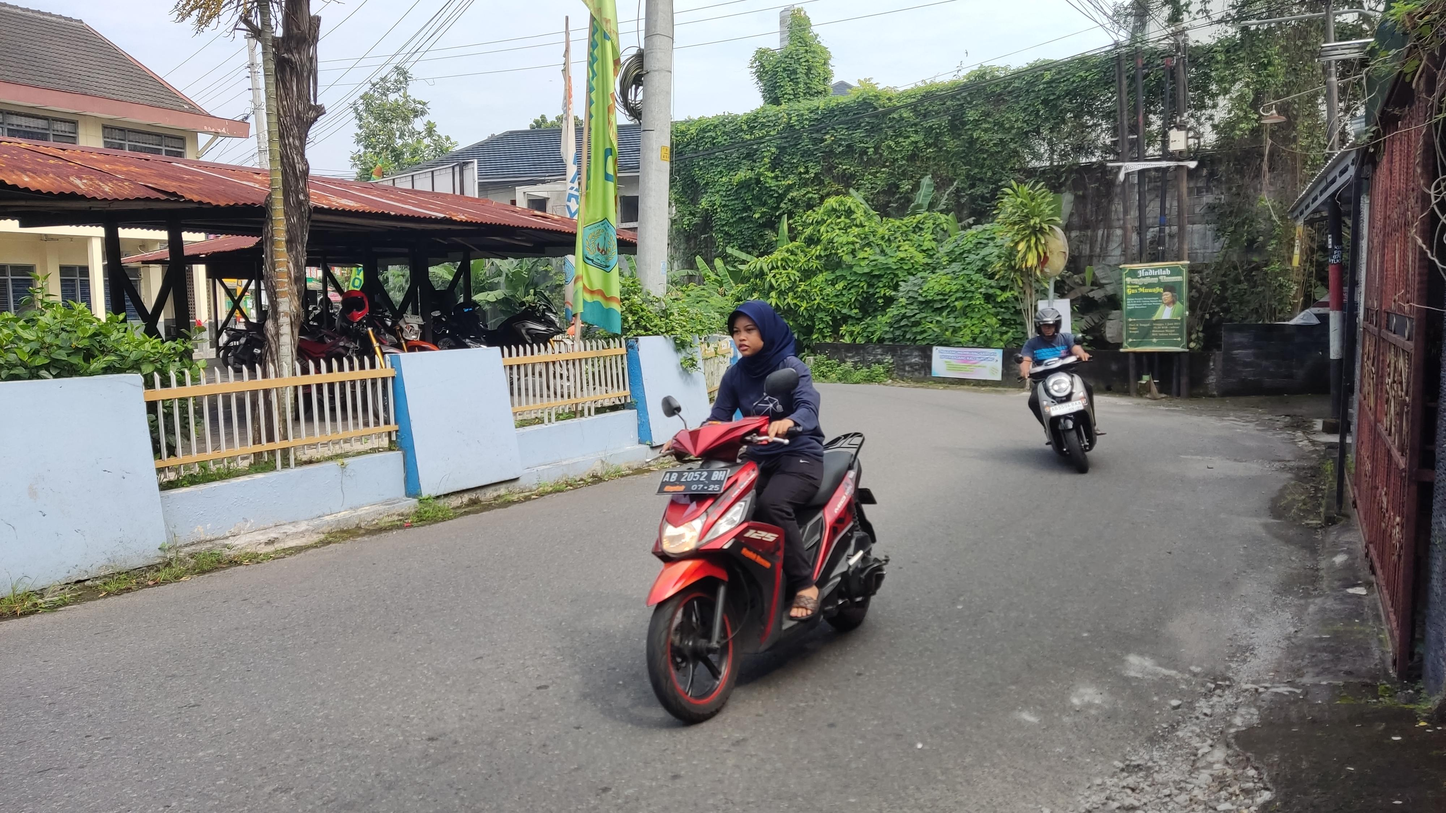helm: (1029, 305, 1062, 340)
nohelm: (722, 293, 790, 365)
riding: (641, 295, 893, 735), (1014, 303, 1104, 473)
